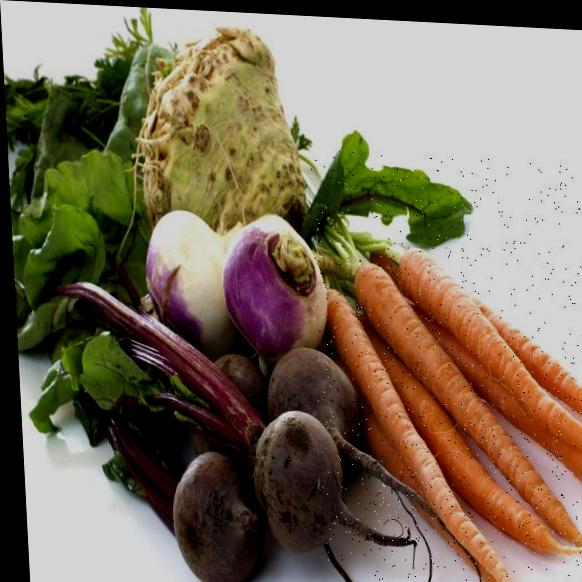carrots: (304, 149, 582, 575), (353, 231, 582, 582)
